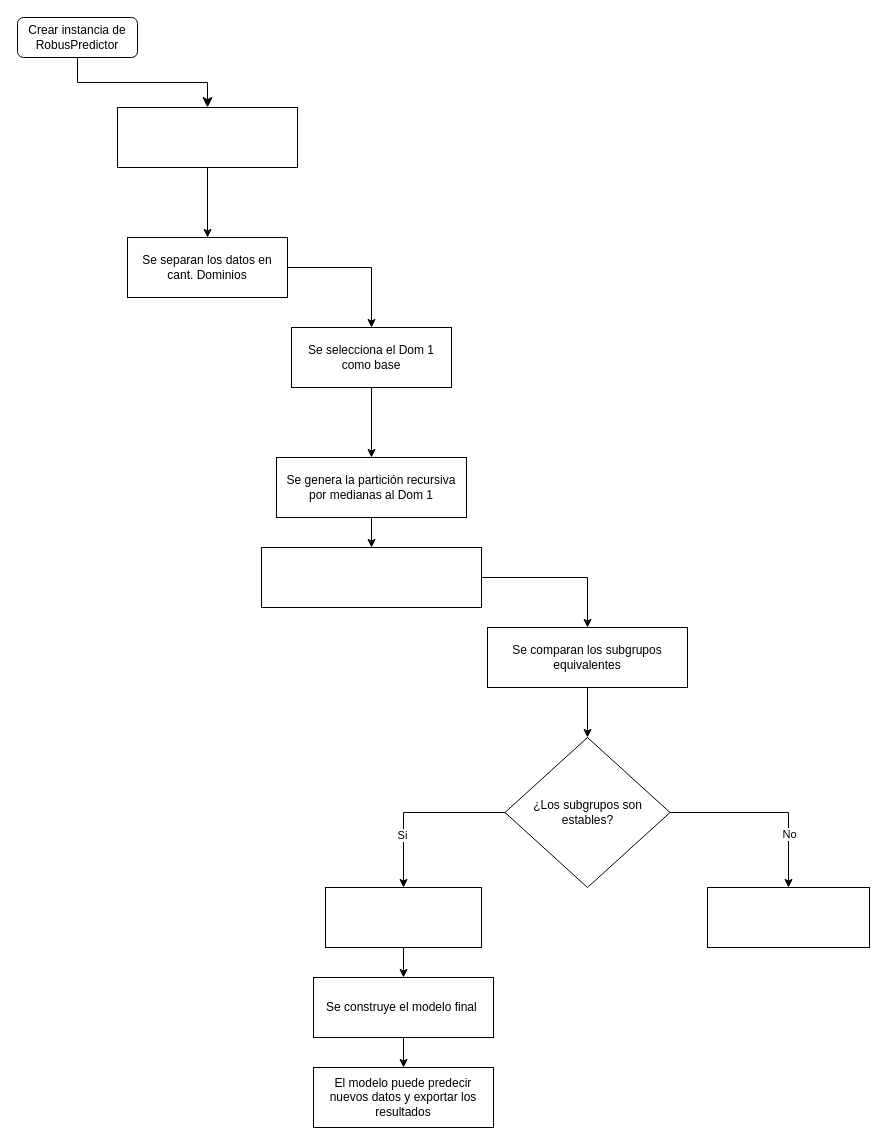
Some shapes in this 887 by 1145 pixel diagram are drawn without their labels. The box of each missing label's shape, as (x1, y1, x2, y2) in pixels:
Guarda los cortes aprendidos y los aplica a los otros Dominios: (260, 546, 482, 608)
Se guarda como cubo estable (zona verde): (324, 886, 482, 948)
Se guarda como cubo inestable (zona roja): (706, 886, 870, 948)
Validar parámetros de entrada y datos de entrenamiento: (116, 106, 298, 168)
